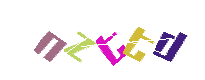D: (124, 0, 204, 80)
N: (19, 0, 99, 80)
T: (70, 0, 150, 80), (71, 0, 151, 80)
Z: (61, 0, 141, 80)
